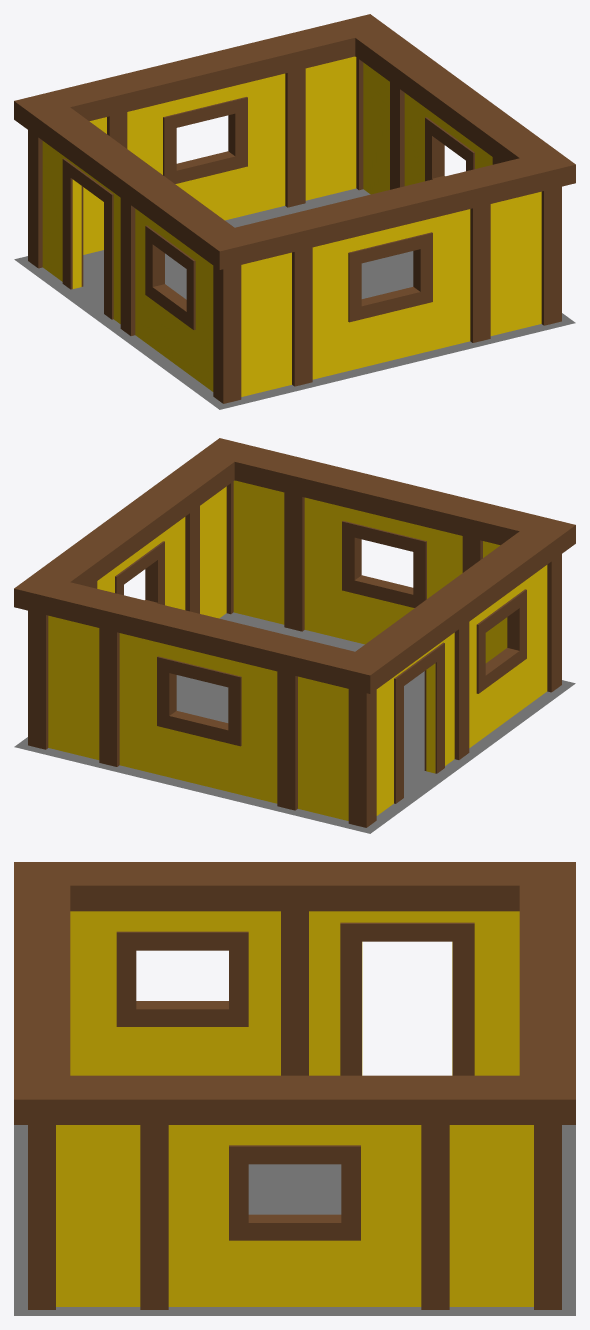
File: house_eg_v2.fbx
3 views of the same model, one above another, from view 1: azimuth 30°, elevation 25°; view 2: azimuth 150°, elevation 25°; view 3: azimuth 270°, elevation 25° (orthographic). The views are drawn at different scales.
Visible parts, largest first — view 1: house; view 2: house; view 3: house.
Boxes of the visible parts, box(x1,y1,x2,y2) form: house: box(14, 14, 575, 409); house: box(14, 438, 575, 833); house: box(14, 862, 575, 1315).
Size of the model in its own units: 2000 by 850 by 2000.
